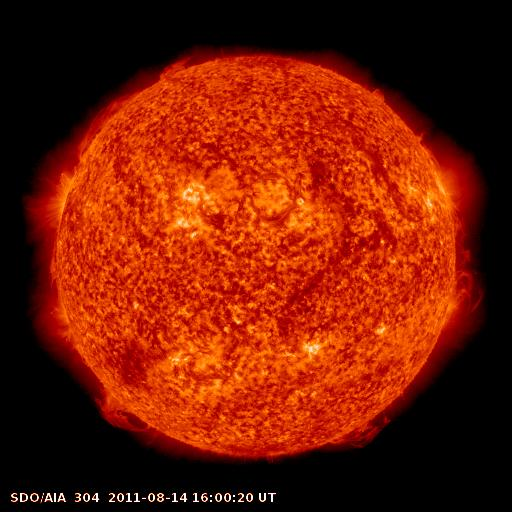prominence: (71, 87, 143, 162), (446, 216, 489, 315), (87, 381, 152, 435), (325, 408, 400, 451), (155, 47, 204, 83), (47, 230, 69, 298)
